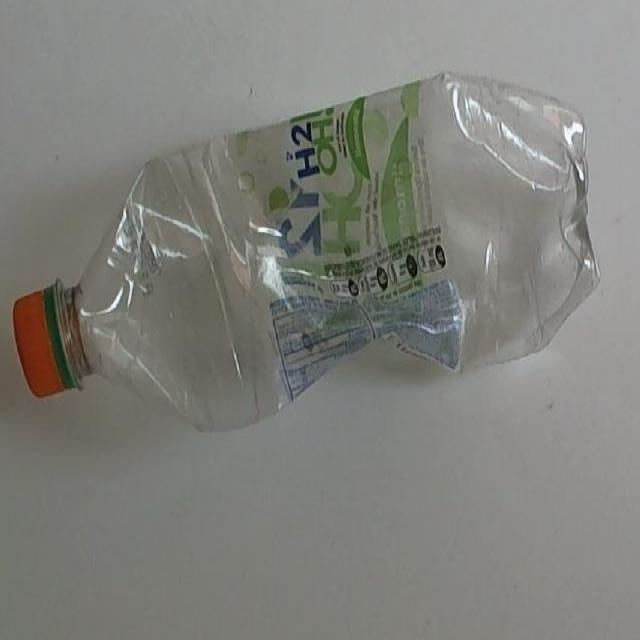defect: (8, 70, 604, 434)
